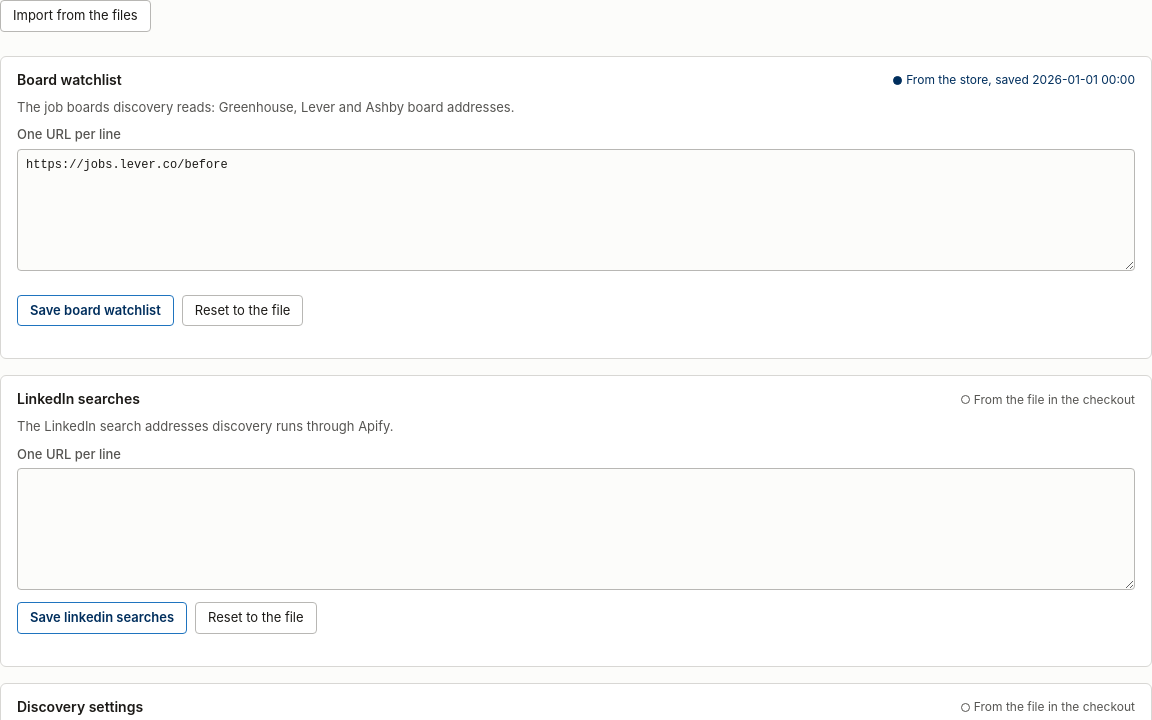
Test: import asks first, reports in the command's lines, and reloads every editor
Expected: the text box named "Board watchlist: One URL per line" holds "https://jobs.lever.co/before", left=17, top=148, right=1135, bottom=270
Step 1. Click the button "Import from the files" → (75, 16), box left=0, top=0, right=151, bottom=32
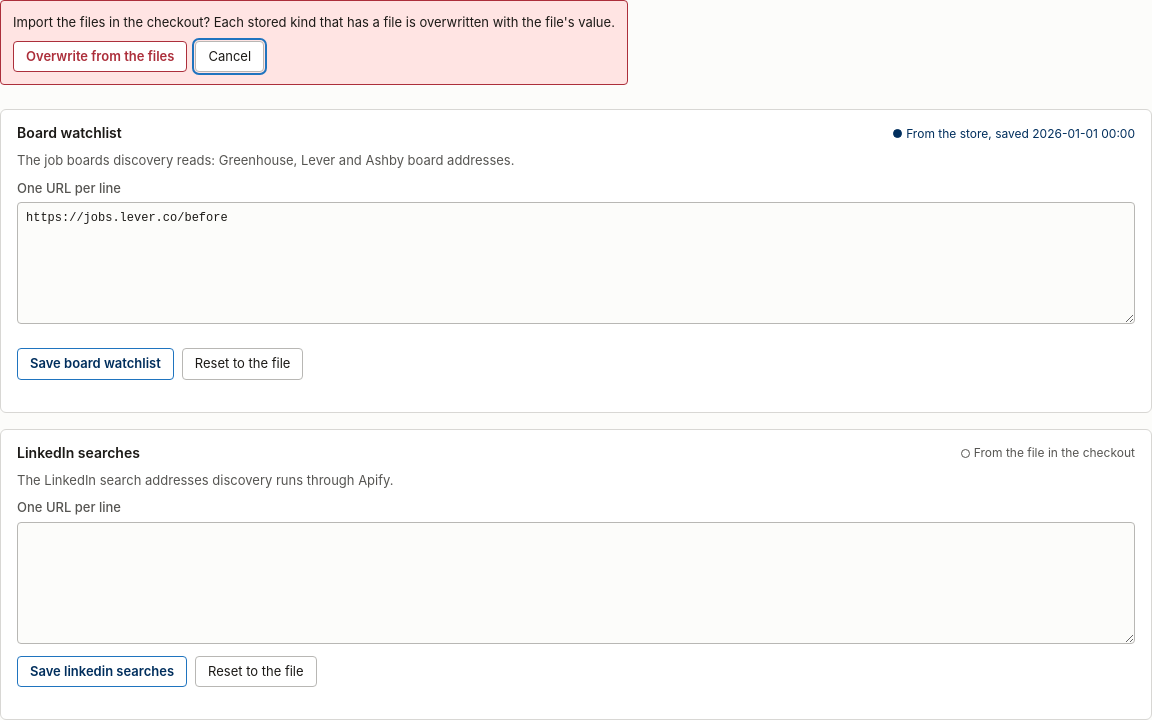
Result: the element named "Import the configuration files" shows "overwritten" at left=13, top=14, right=615, bottom=30
Step 2. Click the button "Overwrite from the files" → (100, 56), box left=13, top=40, right=188, bottom=72
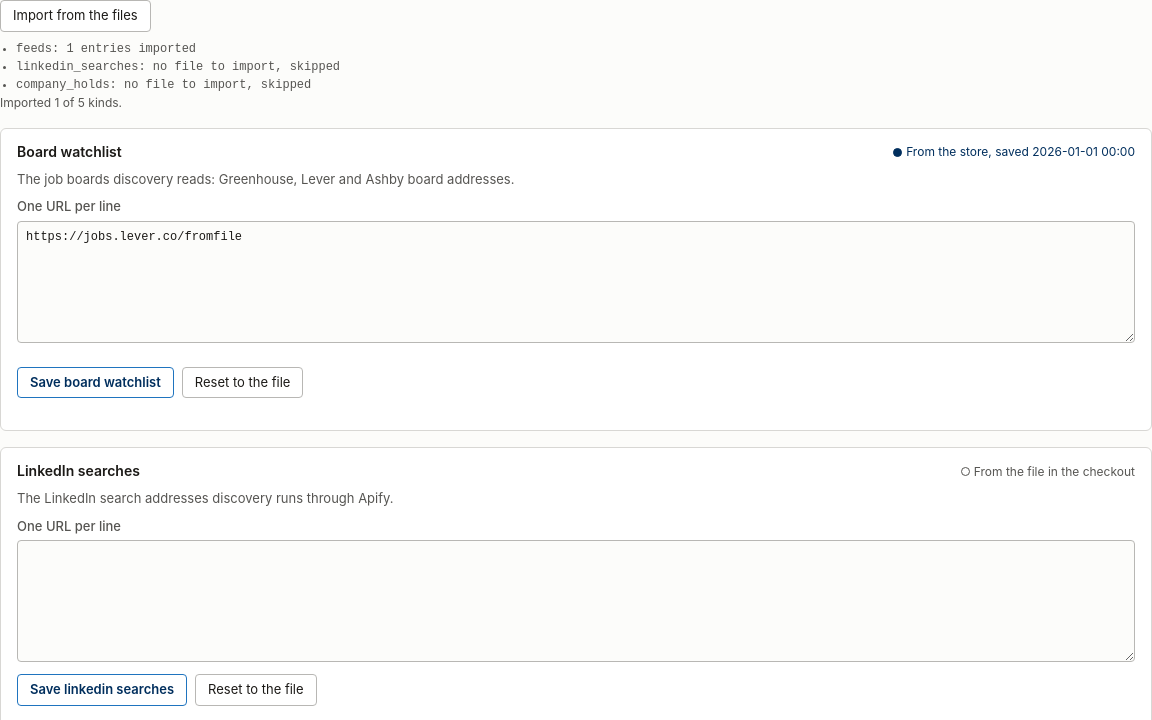
Result: the text "Imported 1 of 5 kinds." is shown at left=0, top=94, right=122, bottom=110
Result: the list item "linkedin_searches: no file to import, skipped" is shown at left=16, top=58, right=340, bottom=76
Result: the number of text boxes showing "https://jobs.lever.co/fromfile" is 1 at left=17, top=220, right=1135, bottom=342
